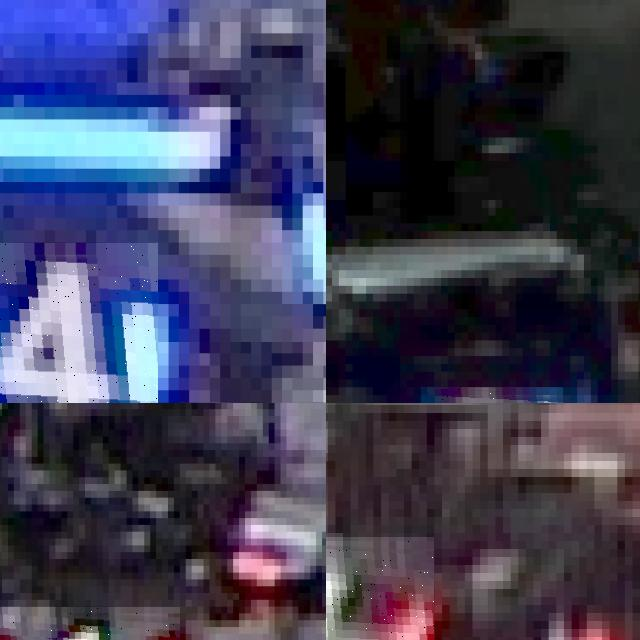B4: (0, 242, 158, 403)
R1: (0, 606, 179, 640)
R4: (326, 537, 434, 640), (484, 605, 629, 640)
